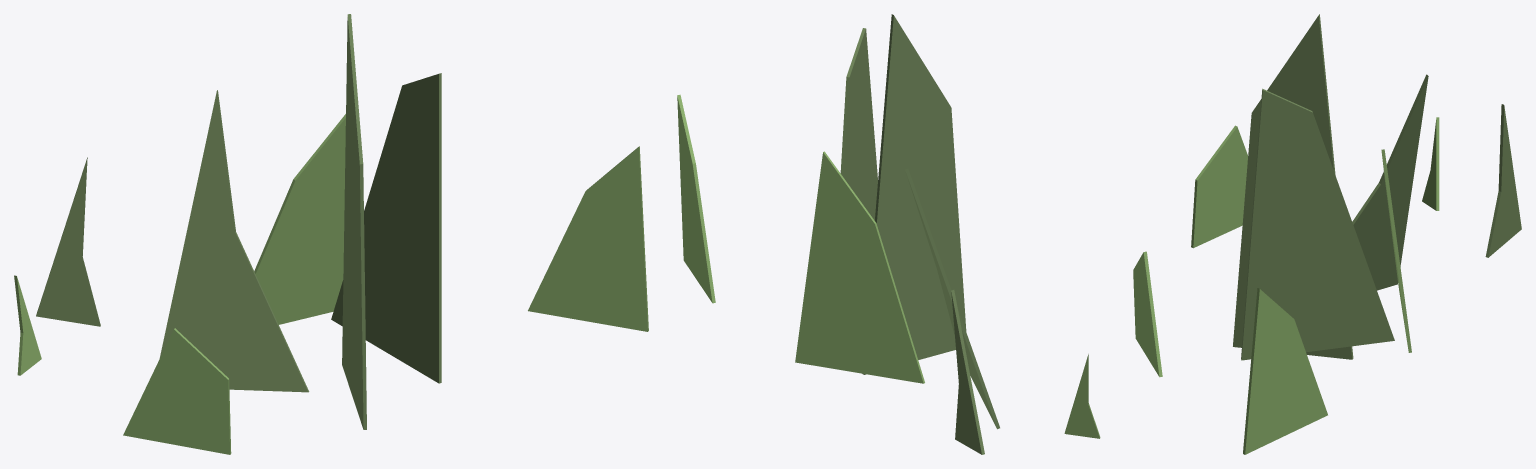
Rendered from herbe.fbx.
The picture shows the model from 3 angles, left to right: view 1: azimuth 30°, elevation 25°; view 2: azimuth 150°, elevation 25°; view 3: azimuth 270°, elevation 25°; orthographic projection. The views are drawn at different scales.
Parts seen in each view (by area): view 1: Plane.007; view 2: Plane.007; view 3: Plane.007.
Boxes of the visible parts, x1,y1,x2,y2 form: Plane.007: (14, 14, 648, 454); Plane.007: (677, 14, 1162, 454); Plane.007: (1191, 14, 1521, 454).
Bounding box in the file's own units: 417 × 242 × 279.
